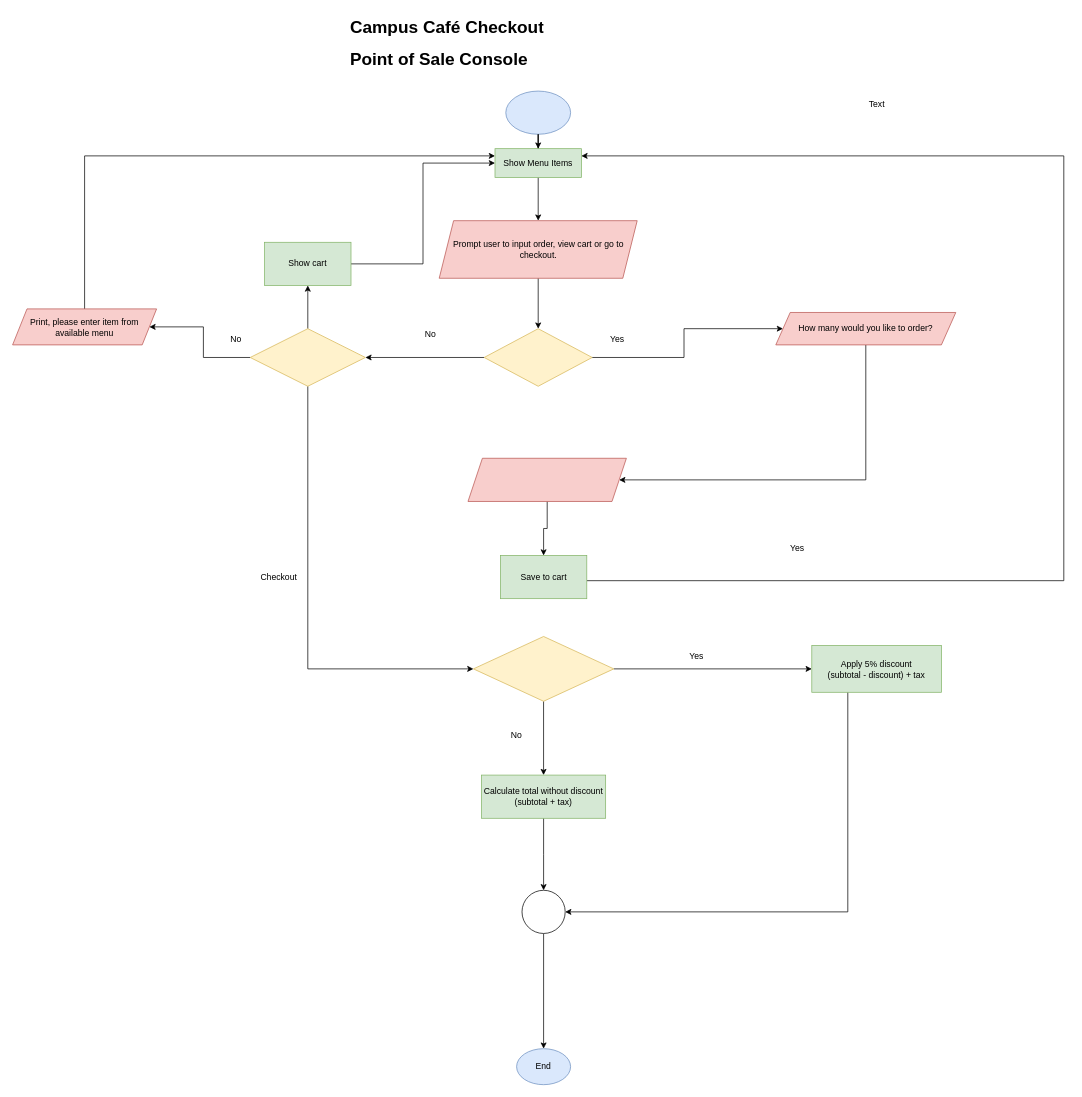
Image size: 1082x1097. Some labels were removed from this diagram. The box of each missing label's shape, as (x1, y1, x2, y2) in pixels:
Are you a student?: (473, 636, 614, 701)
Input quantity: (467, 458, 626, 501)
Is item in menu?: (483, 328, 592, 386)
Start: (505, 90, 571, 134)
View cart or checkout: (249, 328, 365, 386)
